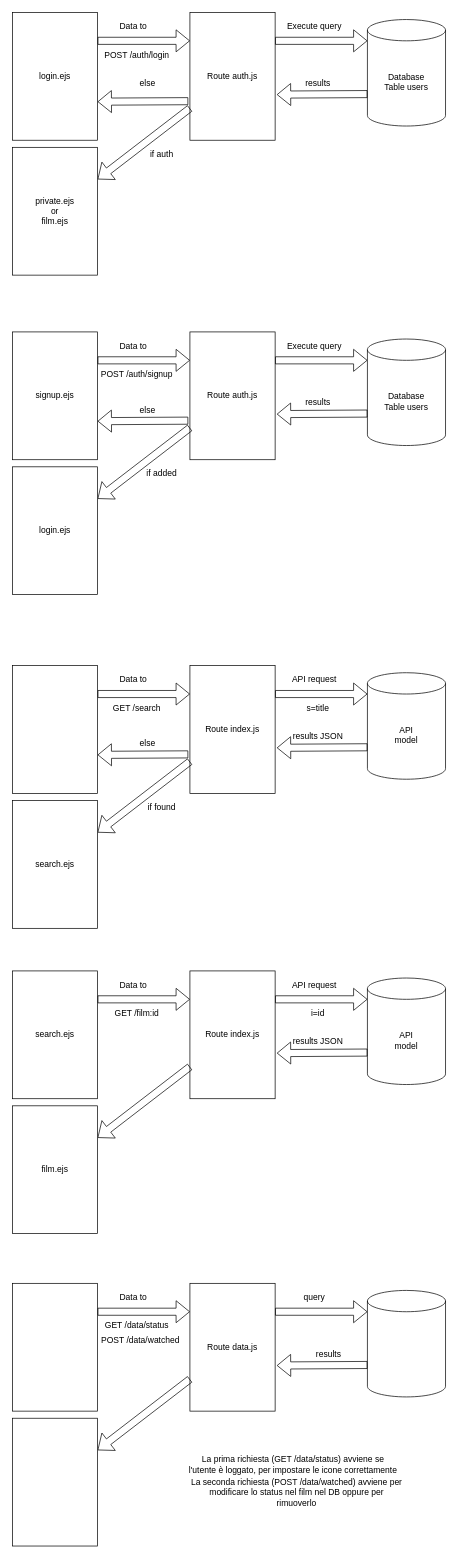
The diagram is 458 pixels wide and 1558 high, and some of its shapes have lost their labels. The centre of each missing label's shape, as x and y in pixels:
"Database Table film model" belongs at (x=406, y=1343).
"film.ejs added/removed" belongs at (x=55, y=1482).
"film.ejs default view" belongs at (x=55, y=1347).
"index.ejs" belongs at (x=55, y=729).
